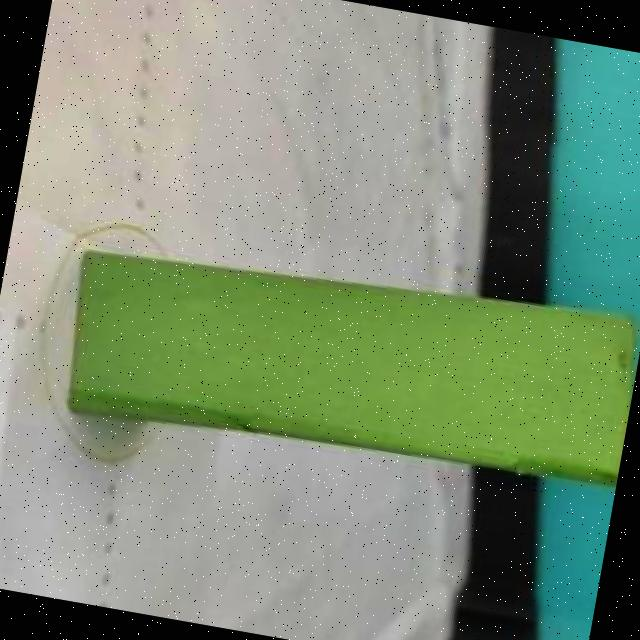greenbox: (58, 214, 640, 503)
